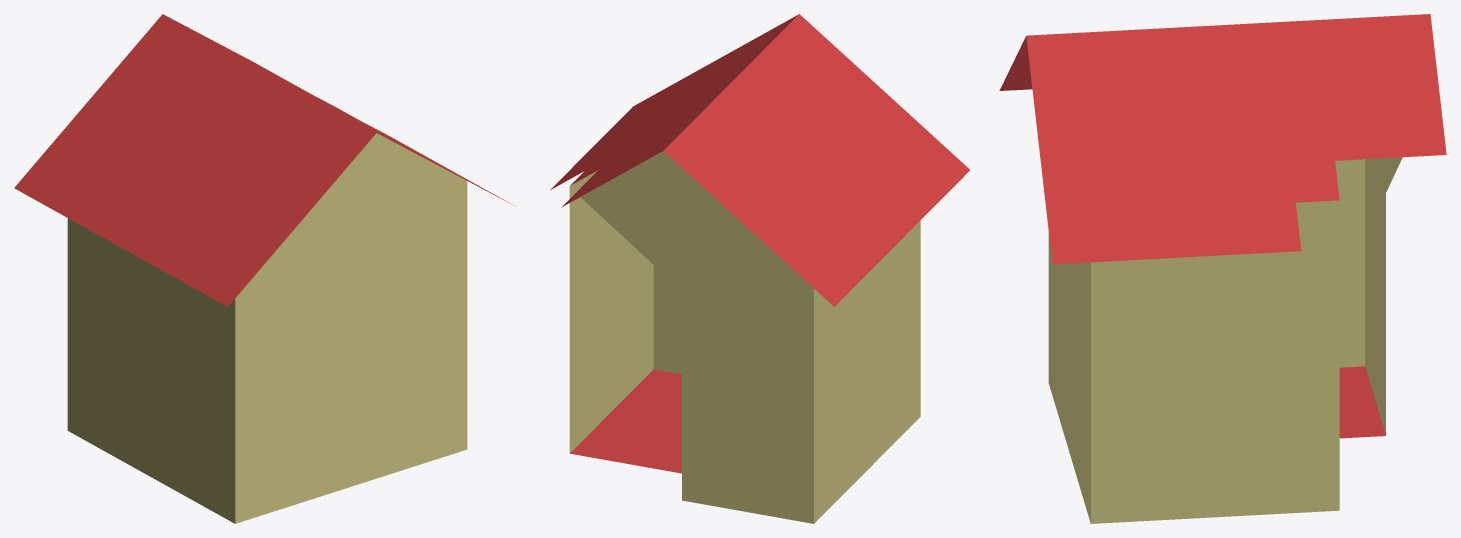
The picture shows the model from 3 angles, left to right: view 1: azimuth 30°, elevation 25°; view 2: azimuth 150°, elevation 25°; view 3: azimuth 270°, elevation 25°; orthographic projection. The views are drawn at different scales.
Size of the model in its own units: 16.01 by 15.17 by 15.78.
